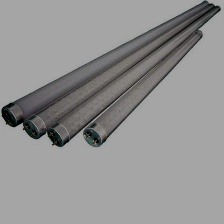light_bulb: (19, 2, 214, 139), (0, 0, 210, 127), (45, 4, 222, 148), (78, 27, 207, 151)
